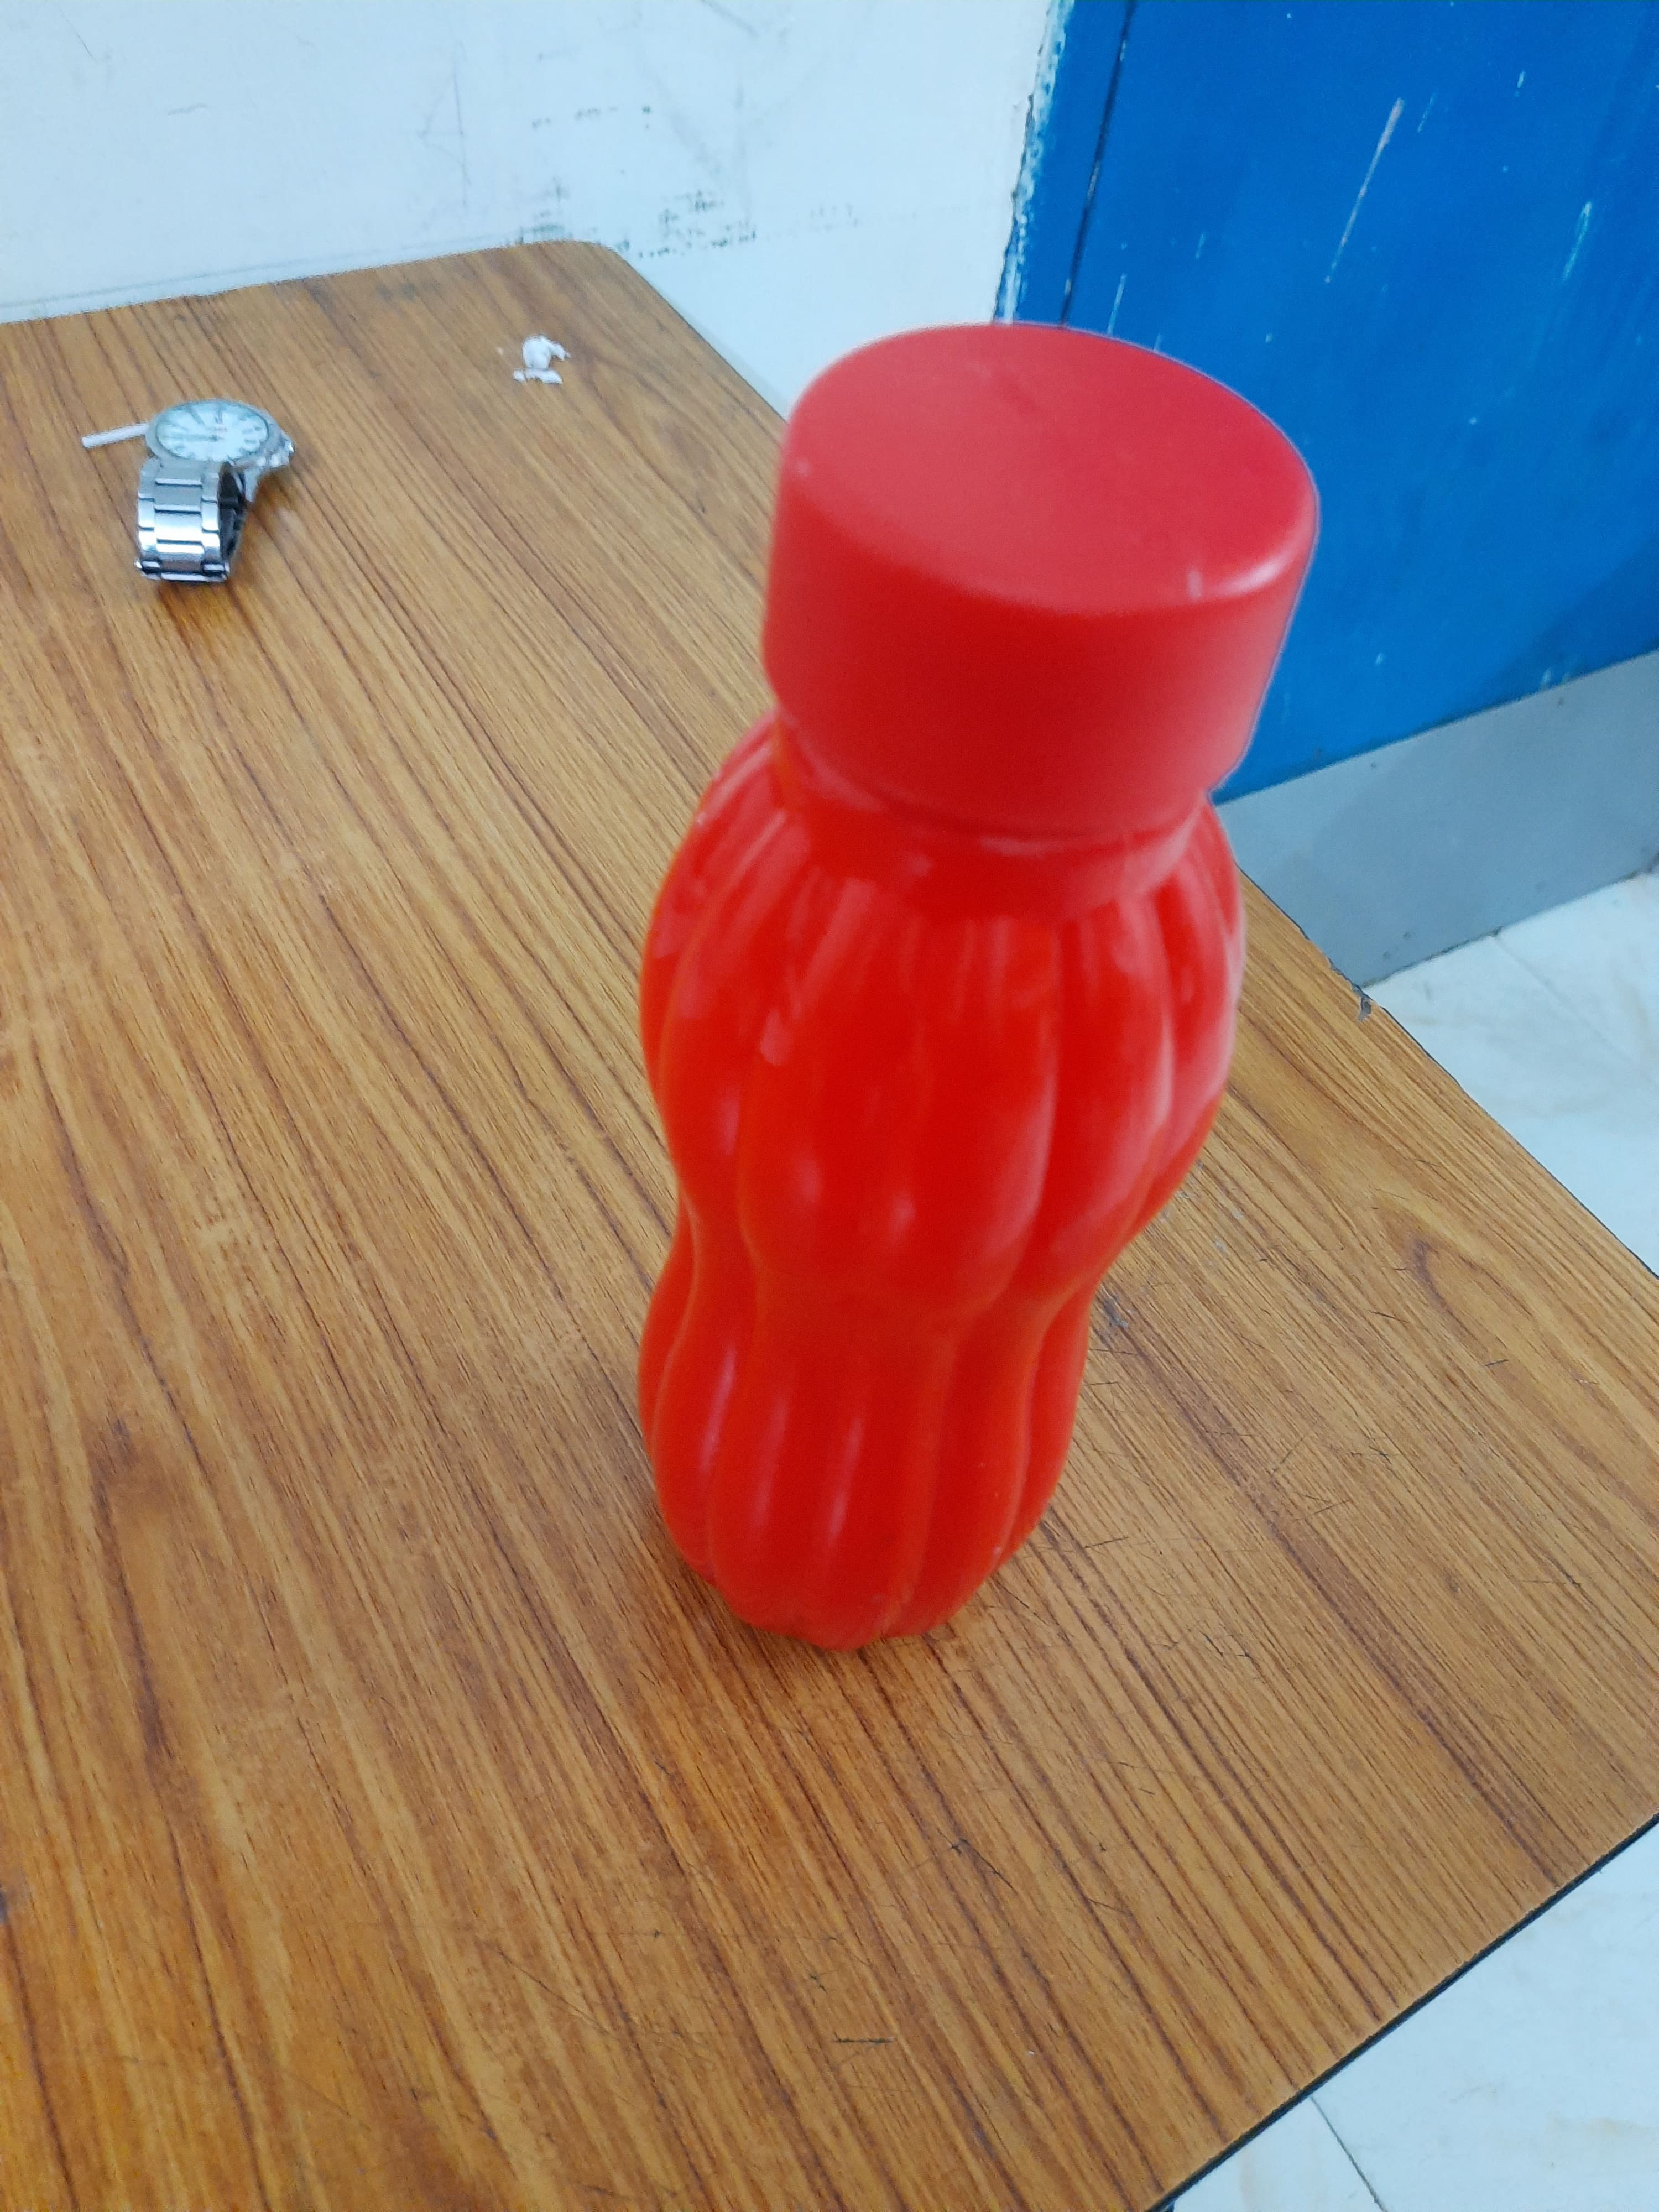Vikash's Water Bottle: (615, 324, 1319, 1662)
